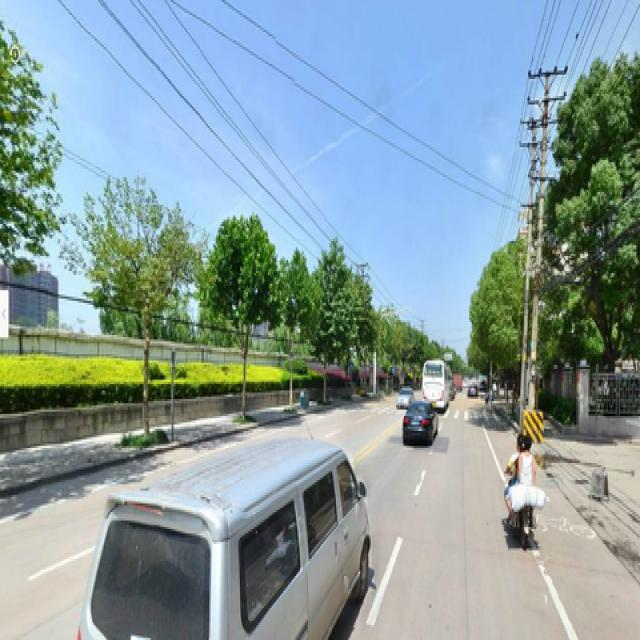meta: (204, 211, 276, 416)
